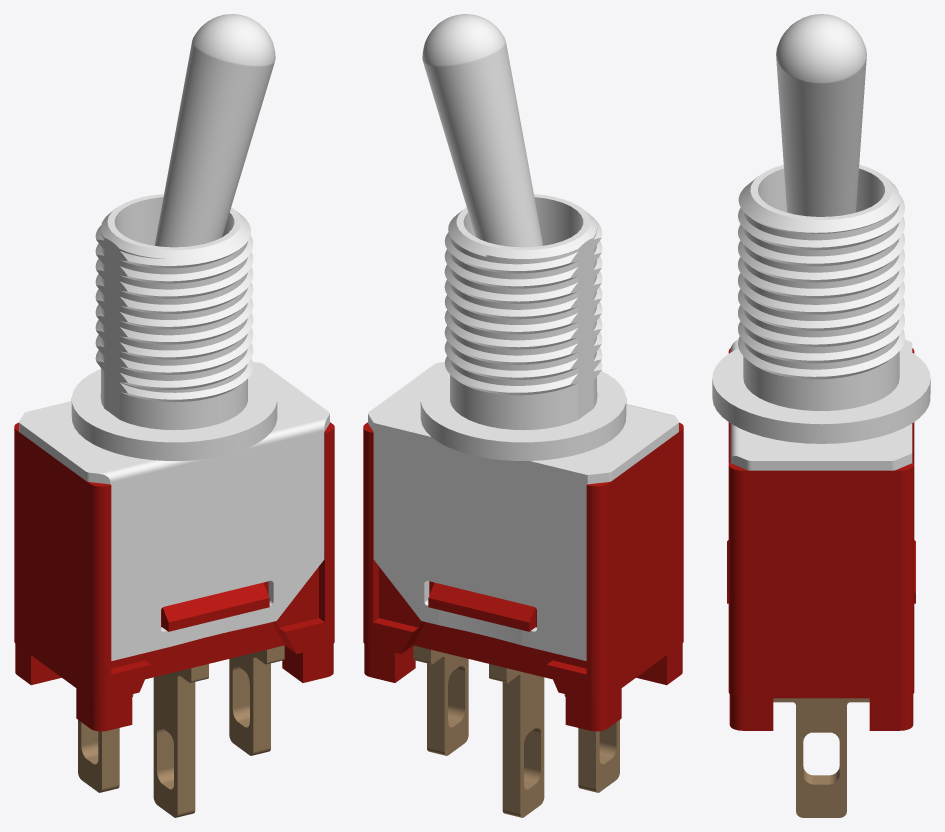
The model's file is switch_toggle_sub-mini_SPDT_onoff_shortlever.glb.
3 renders of one model, left to right at view 1: azimuth 30°, elevation 25°; view 2: azimuth 150°, elevation 25°; view 3: azimuth 270°, elevation 25°, orthographic. The views are drawn at different scales.
Parts seen in each view (by area): view 1: Solid2, Solid1, Solid5, Solid3; view 2: Solid2, Solid1, Solid5, Solid3; view 3: Solid2, Solid1, Solid5, Solid3.
Part boxes in pixels (bbox=[...]): Solid2: bbox=[19, 194, 329, 660]; Solid1: bbox=[14, 422, 334, 731]; Solid5: bbox=[154, 14, 275, 247]; Solid3: bbox=[78, 645, 284, 817]; Solid2: bbox=[368, 194, 678, 660]; Solid1: bbox=[363, 422, 683, 731]; Solid5: bbox=[422, 14, 543, 247]; Solid3: bbox=[413, 645, 619, 817]; Solid2: bbox=[712, 165, 930, 470]; Solid1: bbox=[727, 348, 915, 730]; Solid5: bbox=[776, 14, 866, 216]; Solid3: bbox=[773, 698, 869, 817].
Size of the model in its own units: 0.0082 by 0.025 by 0.006.
